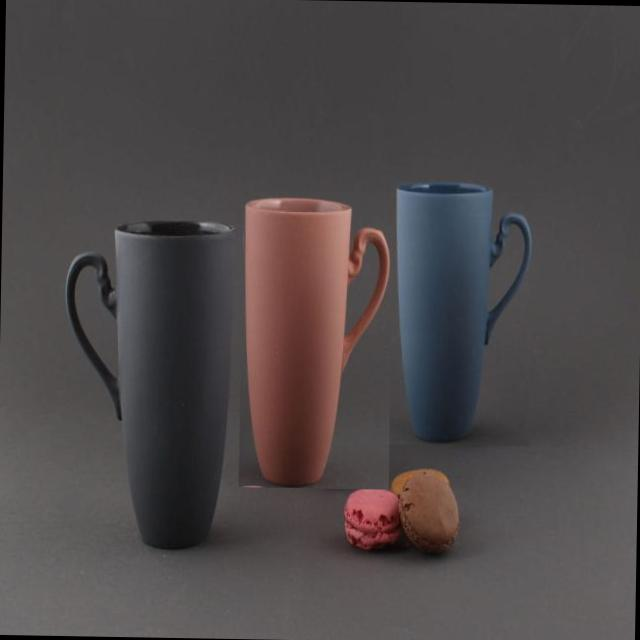Coffee Mug: (60, 217, 238, 548), (240, 194, 390, 486), (394, 184, 532, 442)
